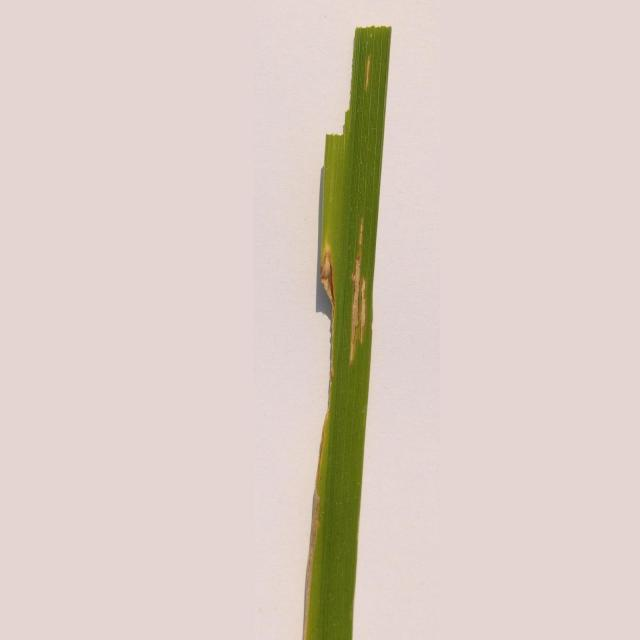leaf blight: (313, 211, 369, 373)
